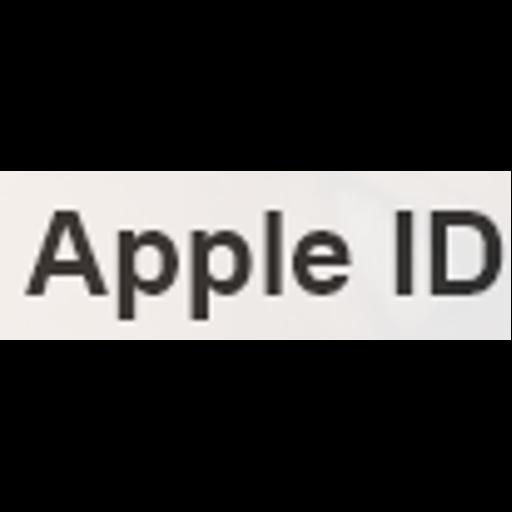Apple: (0, 171, 511, 340)
